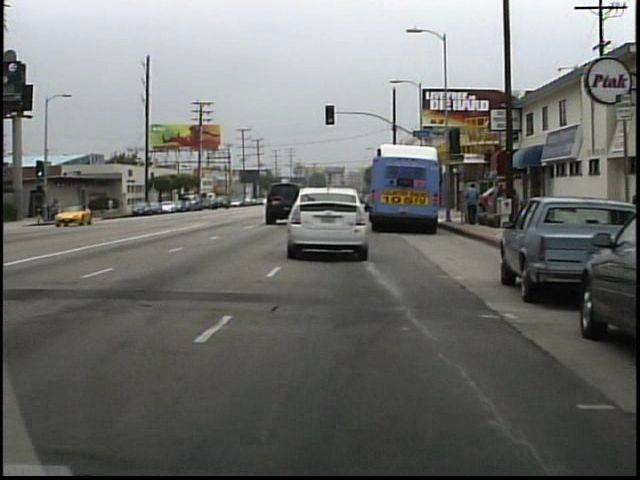person: (460, 181, 480, 227), (106, 193, 119, 217)
